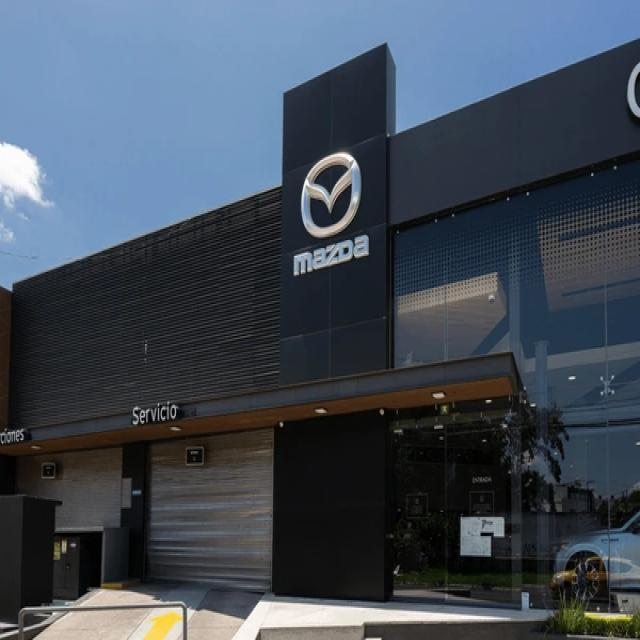mazda: (301, 156, 362, 235)
